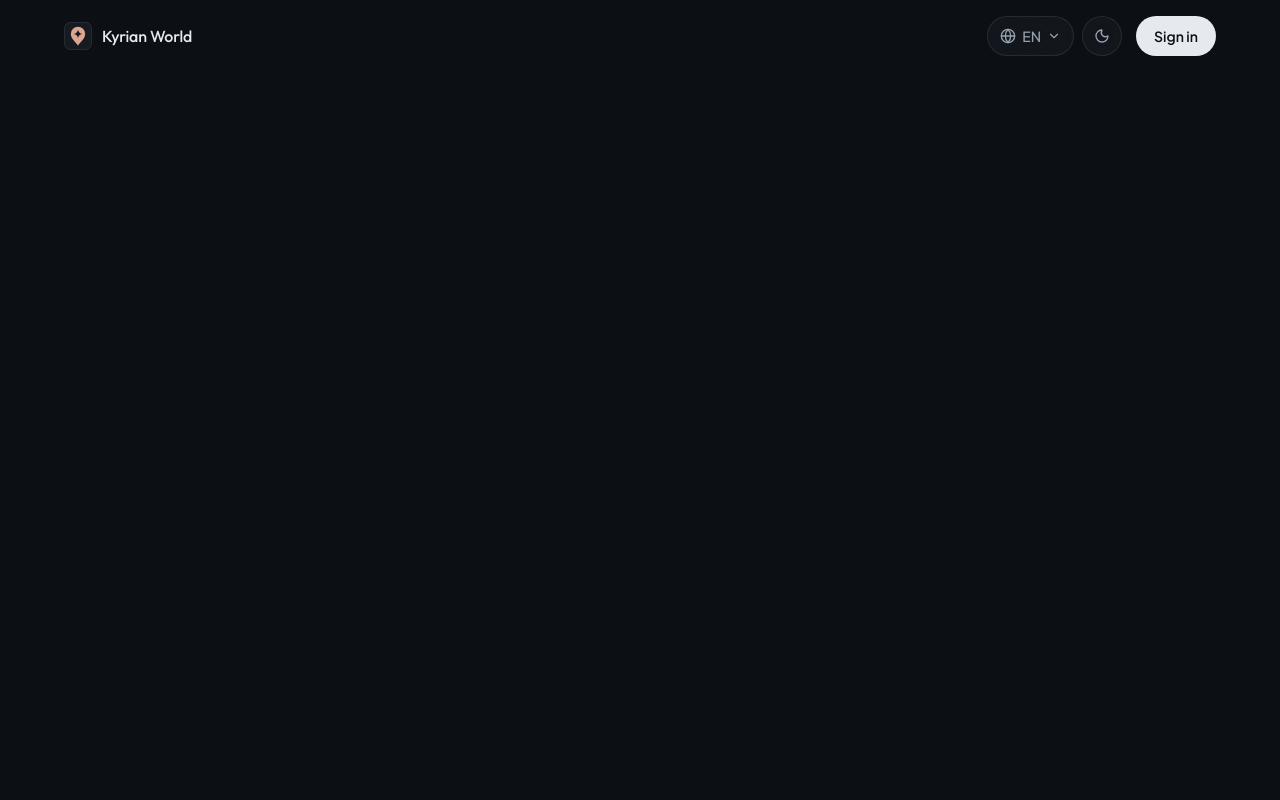
it: Header › opens the login modal from the login button
The image size is (1280, 800).
Click the button "Sign in": (1176, 36) left=1136, top=16, right=1216, bottom=56
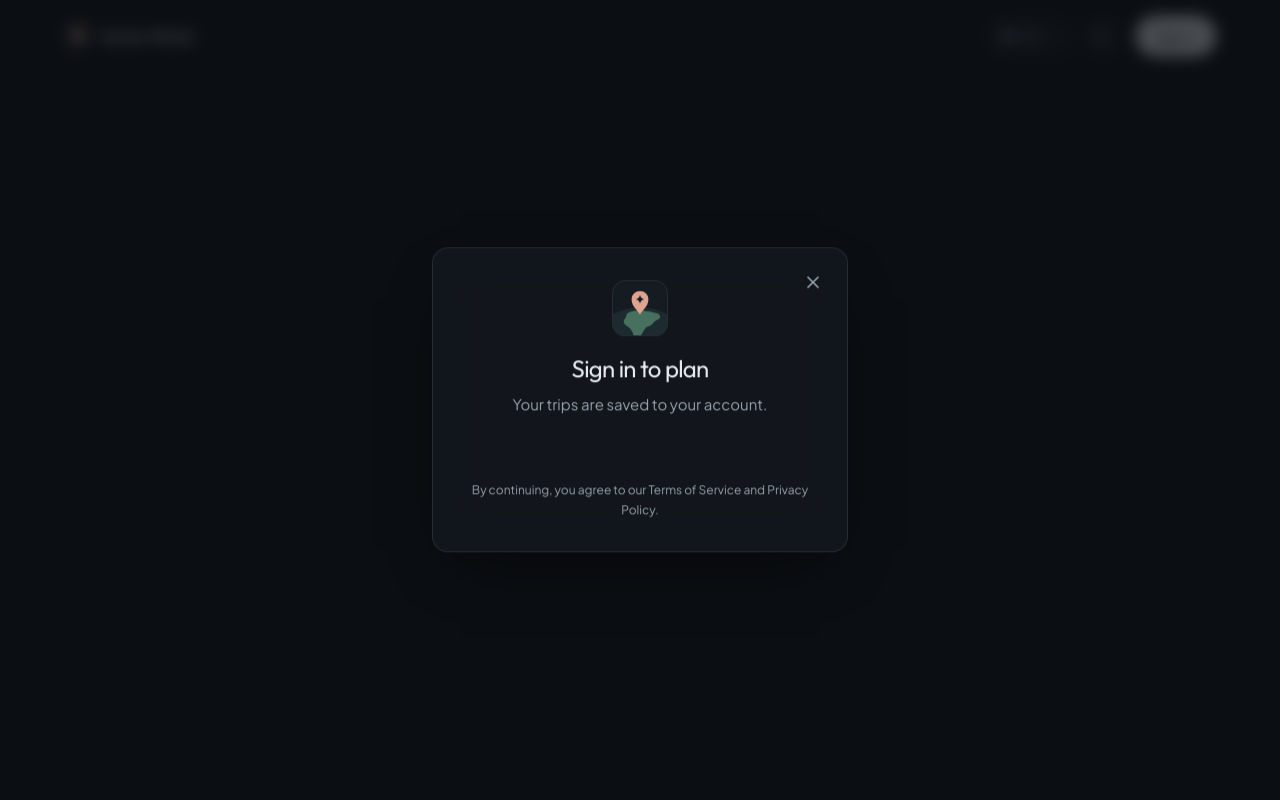
Expected: the heading "Sign in to plan" is shown, left=572, top=352, right=708, bottom=384
